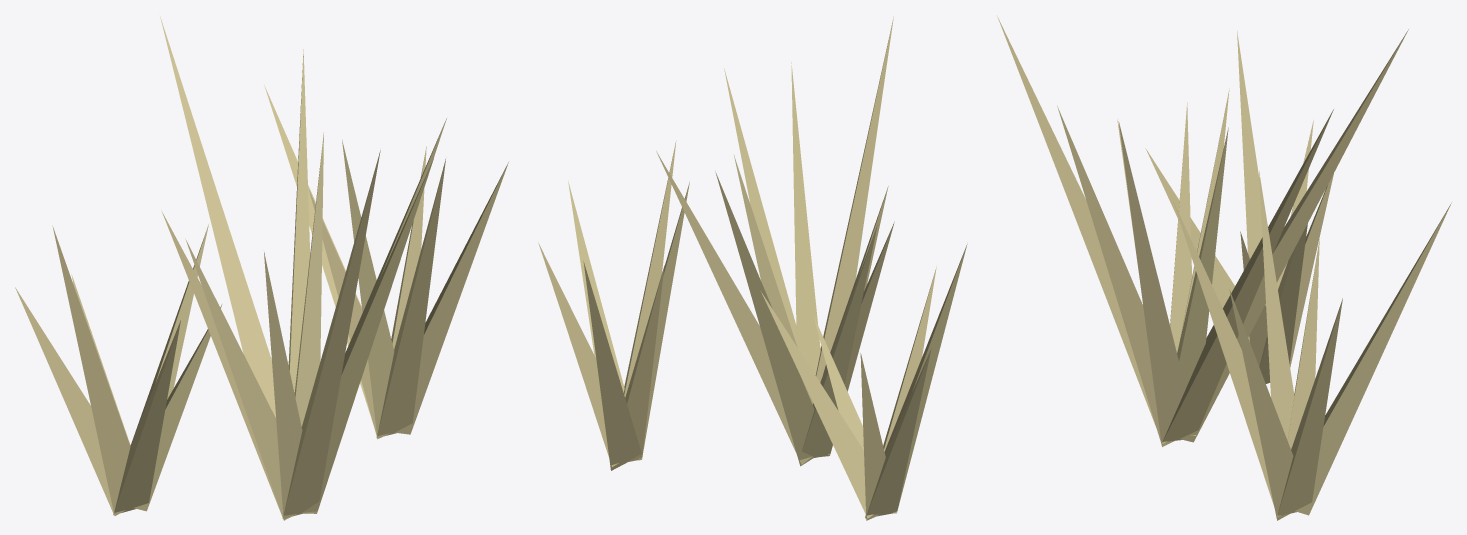
The model's file is SM_Grass_Tuft.glb.
3 renders of one model, left to right at view 1: azimuth 30°, elevation 25°; view 2: azimuth 150°, elevation 25°; view 3: azimuth 270°, elevation 25°, orthographic. The views are drawn at different scales.
Visible parts, largest first — view 1: SM_Grass_Tuft; view 2: SM_Grass_Tuft; view 3: SM_Grass_Tuft.
Part boxes in pixels (x1,y1,x2,y2): SM_Grass_Tuft: [15, 16, 508, 520]; SM_Grass_Tuft: [538, 16, 967, 520]; SM_Grass_Tuft: [997, 16, 1451, 520].
Bounding box in the file's own units: 0.445 × 0.4087 × 0.3964.
